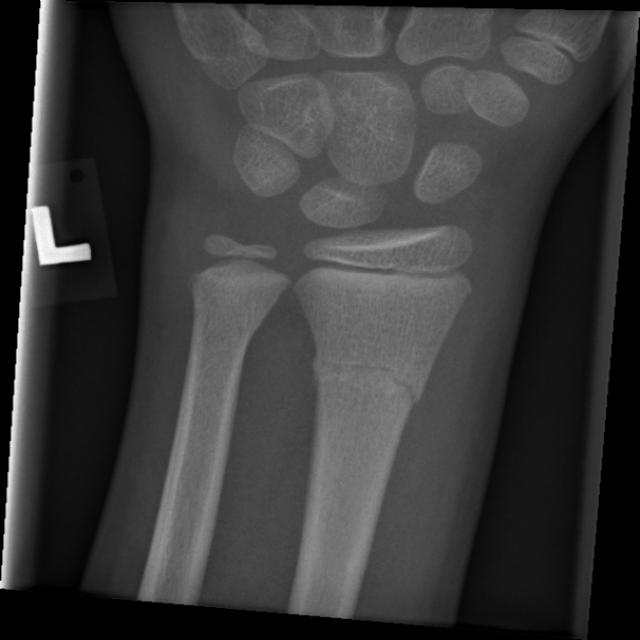radius fracture: (292, 311, 443, 497)
